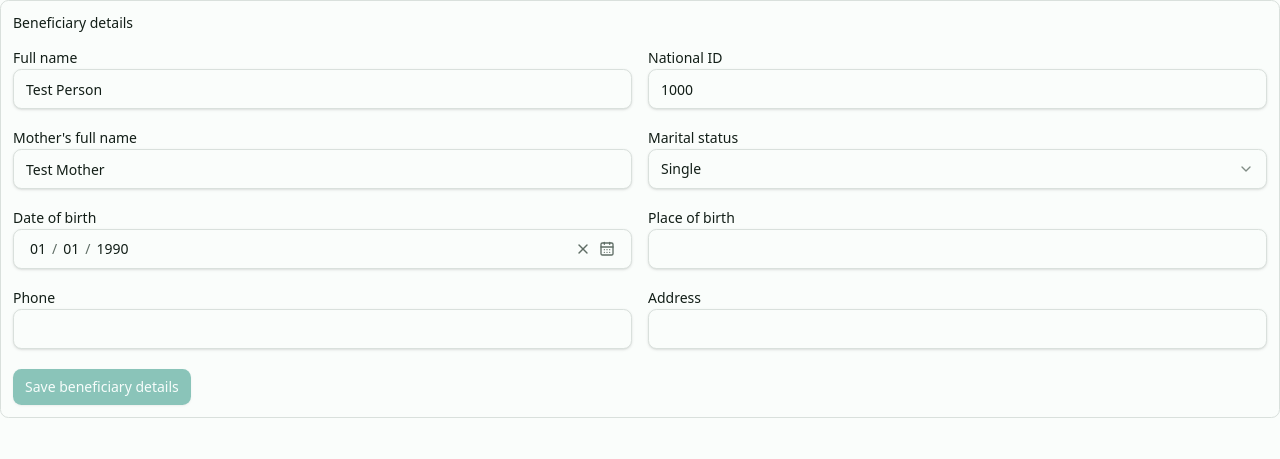
ClientDetailsPanel field errors › clears a field's error as soon as the user edits it
This screenshot has width=1280, height=459.
Type "0770" into the field labelled "Phone".
click(322, 329); type("0770")  # box [13, 309, 632, 349]
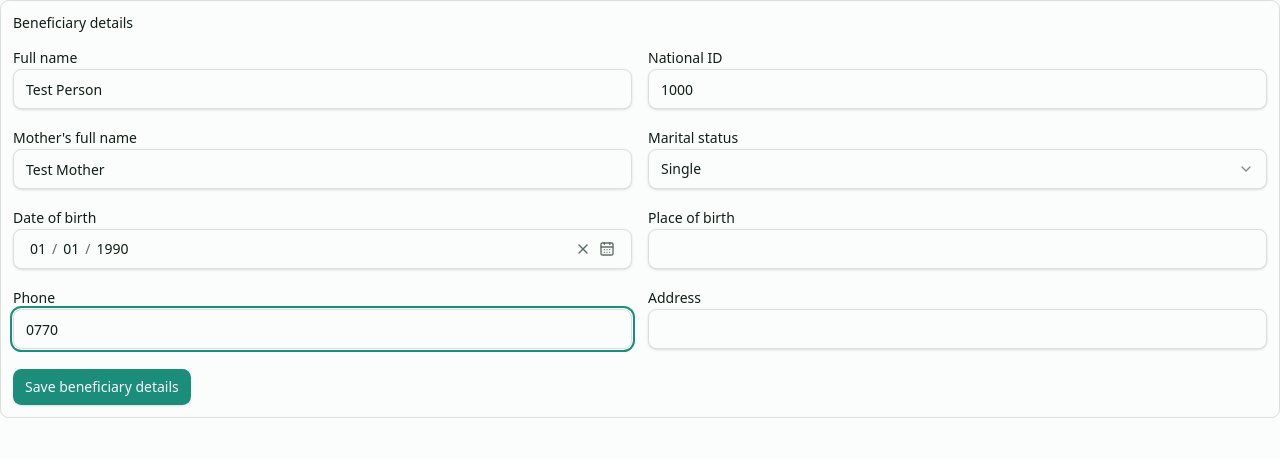
Click the button "Save beneficiary details".
click(102, 387)  # box [13, 369, 191, 405]
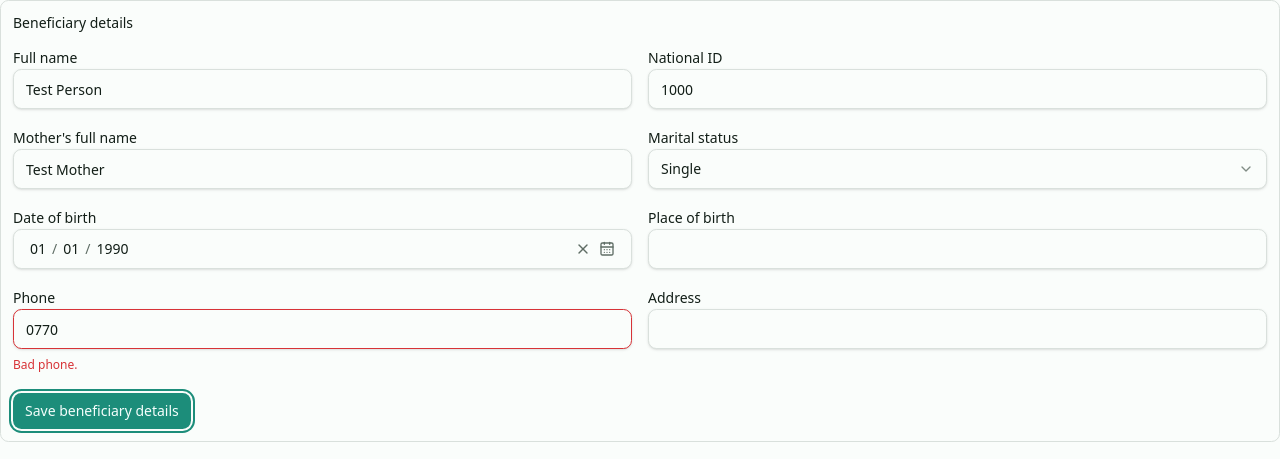
Expected: the message "Bad phone." is shown, [13, 356, 78, 373]
Type "1234567" into the field labelled "Phone".
click(322, 329); type("1234567")  # box [13, 309, 632, 349]
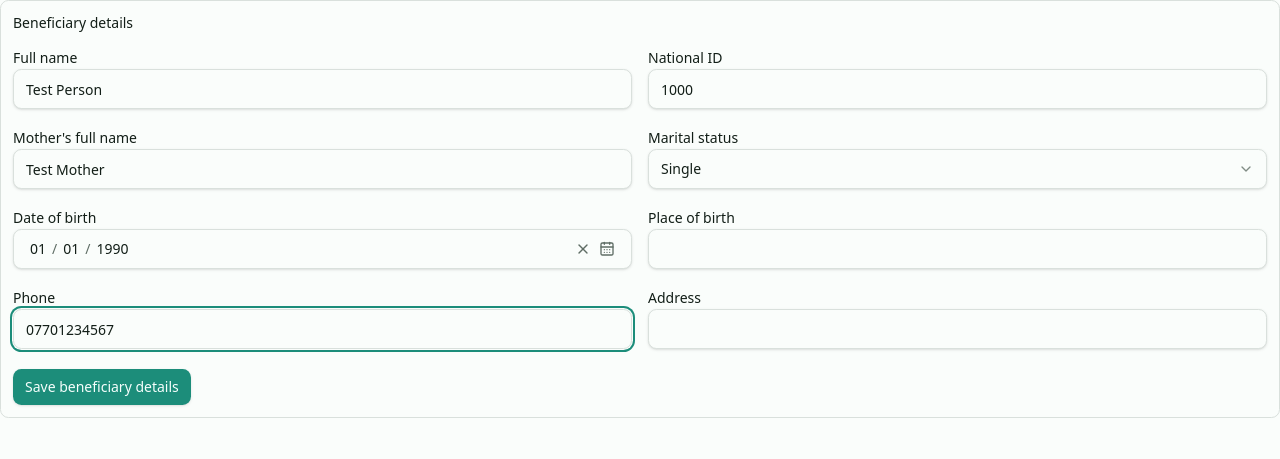
Expected: the message "Bad phone." is gone
